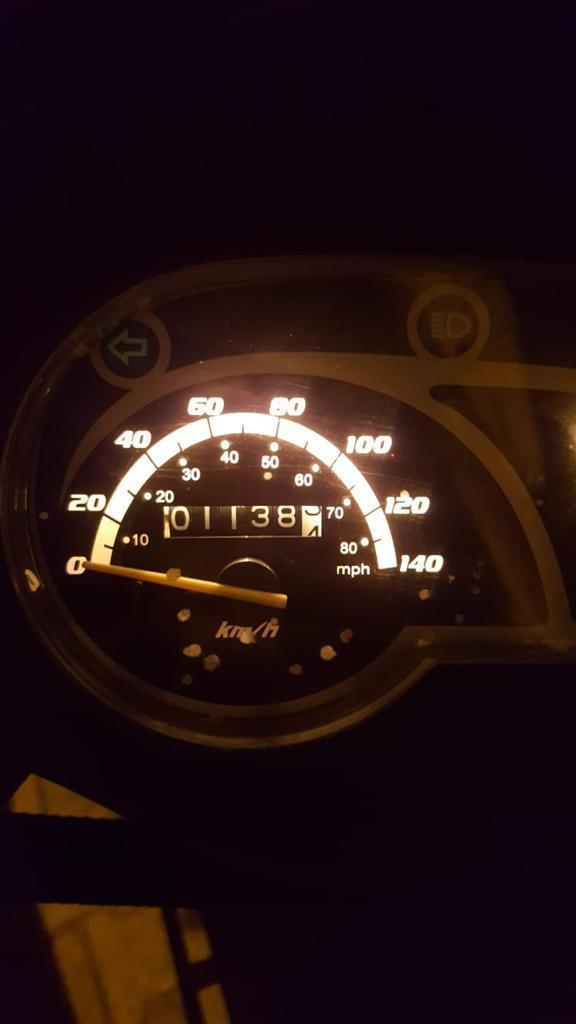0: (167, 504, 191, 532)
1: (200, 503, 215, 531), (226, 503, 241, 531)
3: (249, 504, 272, 529), (302, 502, 322, 516)
4: (303, 523, 321, 538)
8: (275, 504, 298, 529)
odometer: (156, 501, 326, 542)
